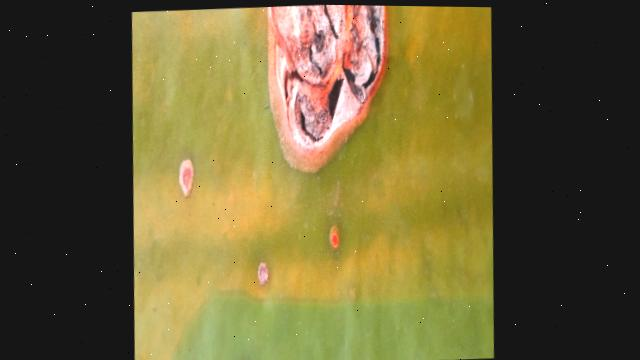stemcanker: (265, 3, 391, 177), (176, 155, 198, 201), (254, 260, 276, 291), (326, 222, 345, 253)
